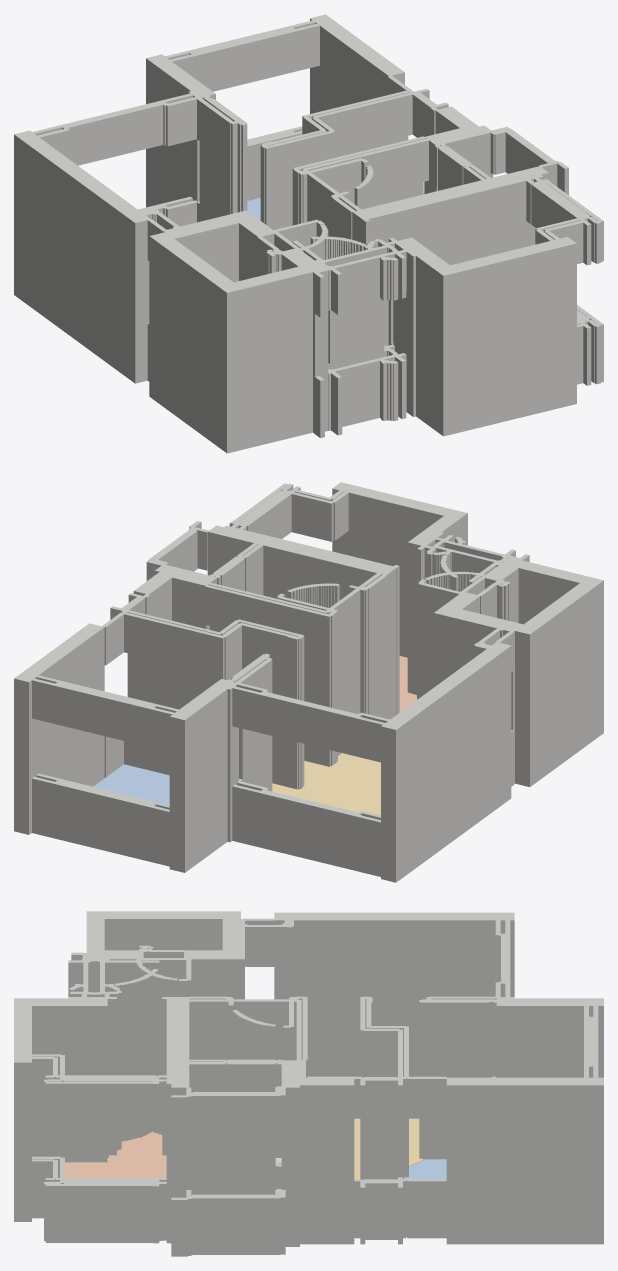
3 views of the same model, one above another, from view 1: azimuth 30°, elevation 25°; view 2: azimuth 150°, elevation 25°; view 3: azimuth 270°, elevation 25° (orthographic). The views are drawn at different scales.
Visible parts, largest first — view 1: walls; view 2: walls, room:living:1, room:bedroom:0, room:kitchen:5; view 3: walls, room:kitchen:5, room:living:1, room:bedroom:0.
Boxes of the visible parts, x1=… form: walls: x1=14, y1=14, x2=603, y2=453; walls: x1=14, y1=482, x2=603, y2=882; room:living:1: x1=272, y1=753, x2=380, y2=815; room:bedroom:0: x1=93, y1=764, x2=169, y2=805; room:kitchen:5: x1=399, y1=656, x2=417, y2=712; walls: x1=14, y1=911, x2=603, y2=1256; room:kitchen:5: x1=65, y1=1131, x2=166, y2=1178; room:living:1: x1=307, y1=1076, x2=495, y2=1179; room:bedroom:0: x1=409, y1=1159, x2=446, y2=1179.
Size of the model in its own units: 7.02 by 2.8 by 9.4.
